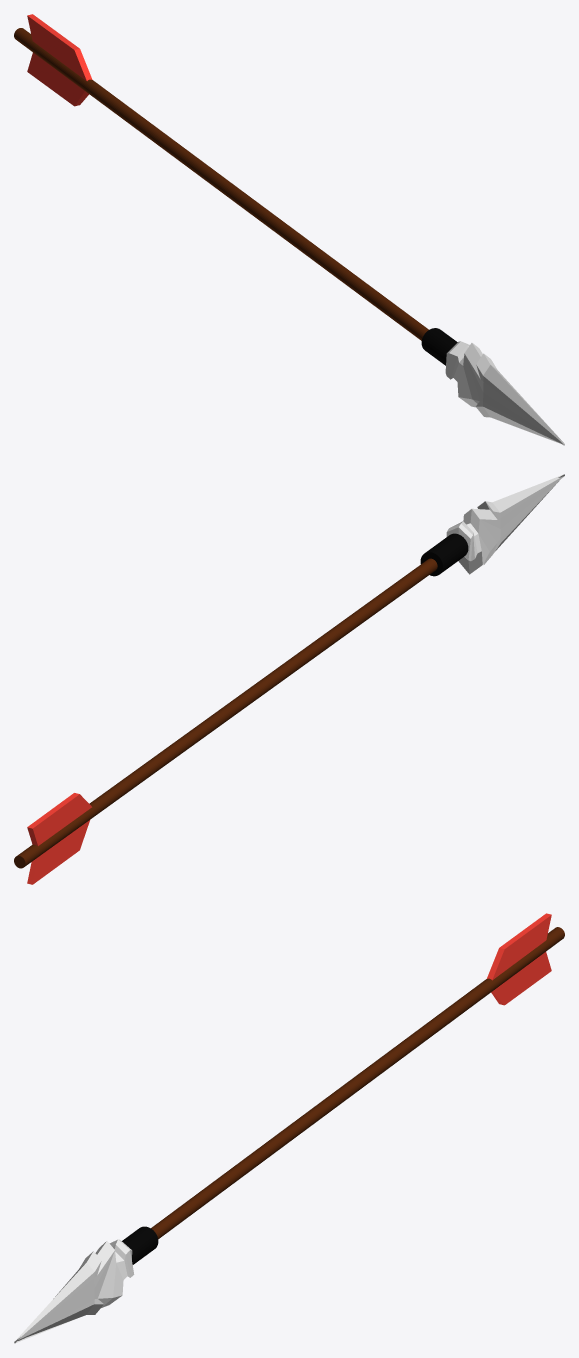
Rendered from Arrow.fbx.
3 renders of one model, top to bottom at view 1: azimuth 30°, elevation 25°; view 2: azimuth 150°, elevation 25°; view 3: azimuth 330°, elevation 25°, orthographic.
Visible parts, largest first — view 1: Base, Head, Feather, Connector; view 2: Base, Head, Feather, Connector; view 3: Base, Head, Feather, Connector.
Part boxes in pixels (x1,y1,x2,y2): Base: (14,28,428,340); Head: (445,341,564,445); Feather: (27,14,92,106); Connector: (421,328,457,365); Base: (14,558,437,868); Head: (446,474,564,574); Feather: (27,793,91,884); Connector: (420,533,468,576); Base: (151,927,564,1238); Head: (14,1239,134,1343); Feather: (487,913,551,1005); Connector: (122,1226,158,1264).
Bounding box in the file's own units: 40.38 × 102 × 1455.
